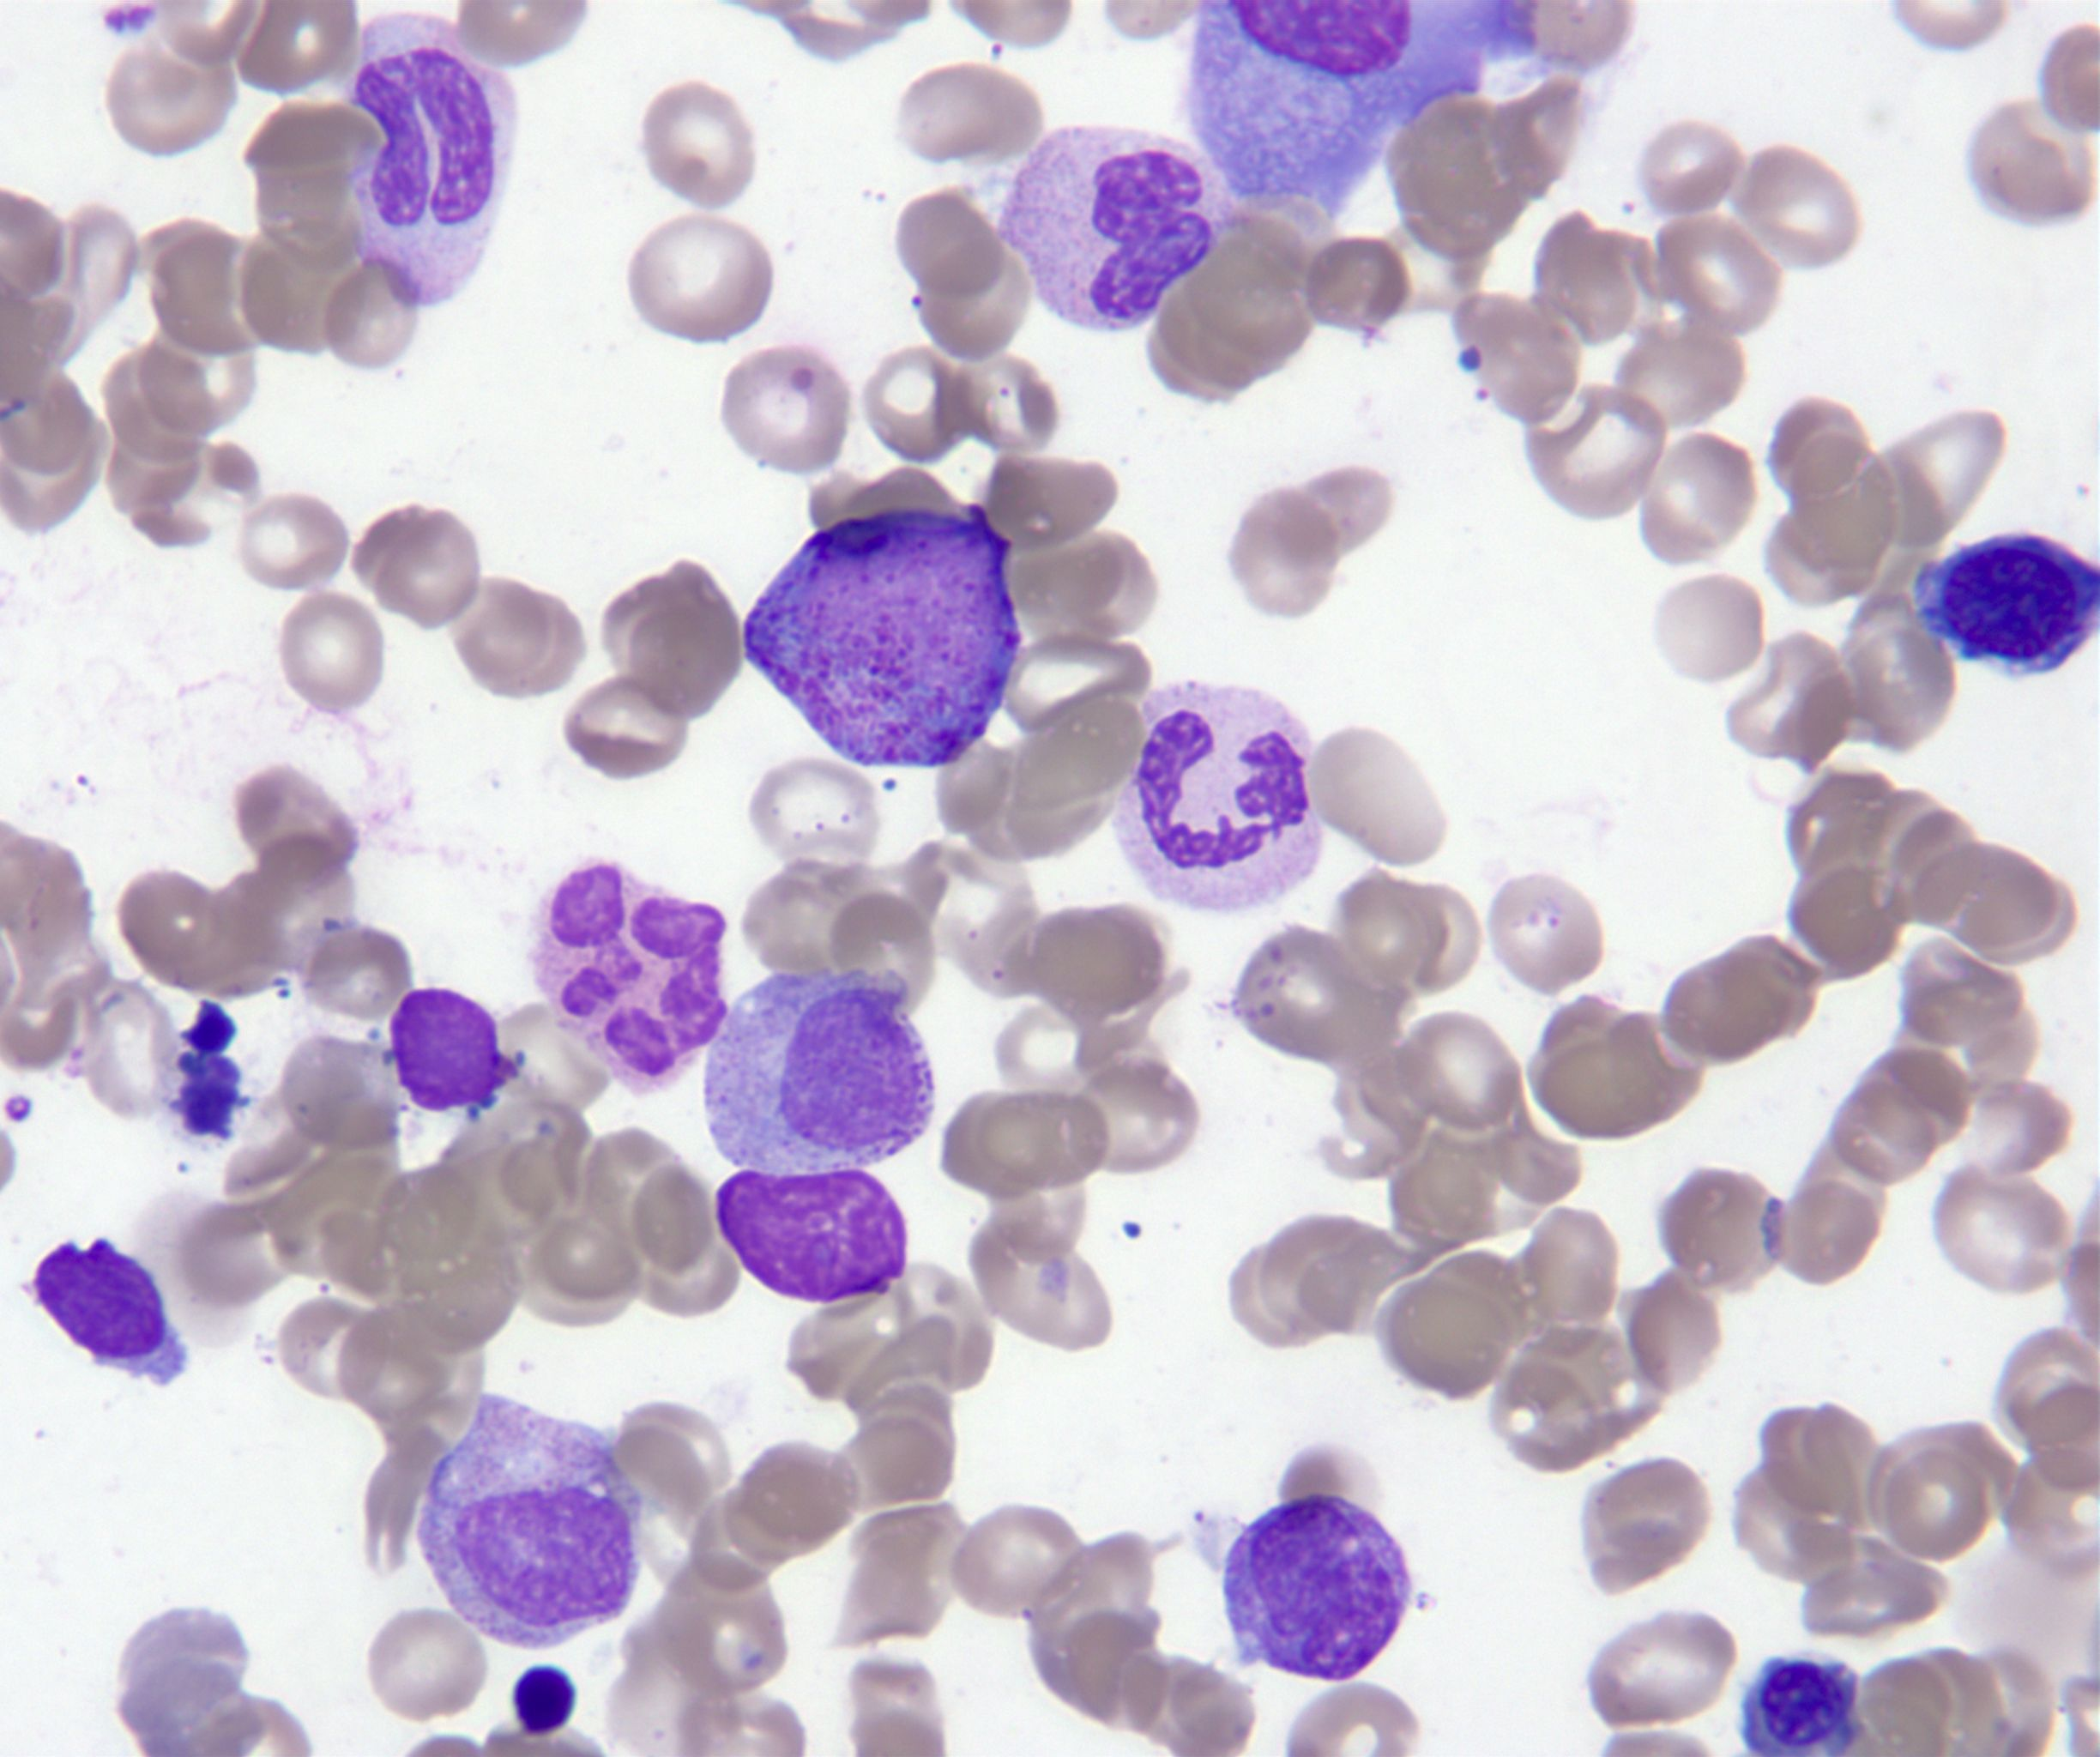23: (1913, 532, 2100, 675)
24: (1739, 1654, 1859, 1757)
3: (740, 508, 1020, 769), (417, 1392, 642, 1649), (705, 970, 935, 1176)
32: (26, 1239, 190, 1389)
4: (1224, 1495, 1406, 1680)
5: (344, 14, 518, 307), (992, 124, 1238, 330)
6: (1116, 680, 1322, 911), (528, 858, 727, 1092)
x: (1184, 2, 1540, 213), (717, 1167, 907, 1302), (394, 989, 520, 1115)
